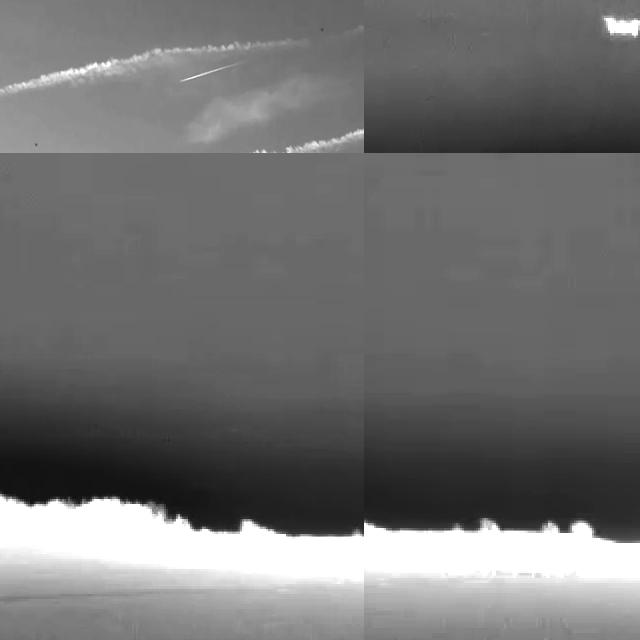1: (595, 10, 640, 45)
drone: (29, 130, 44, 153), (317, 20, 330, 38)
